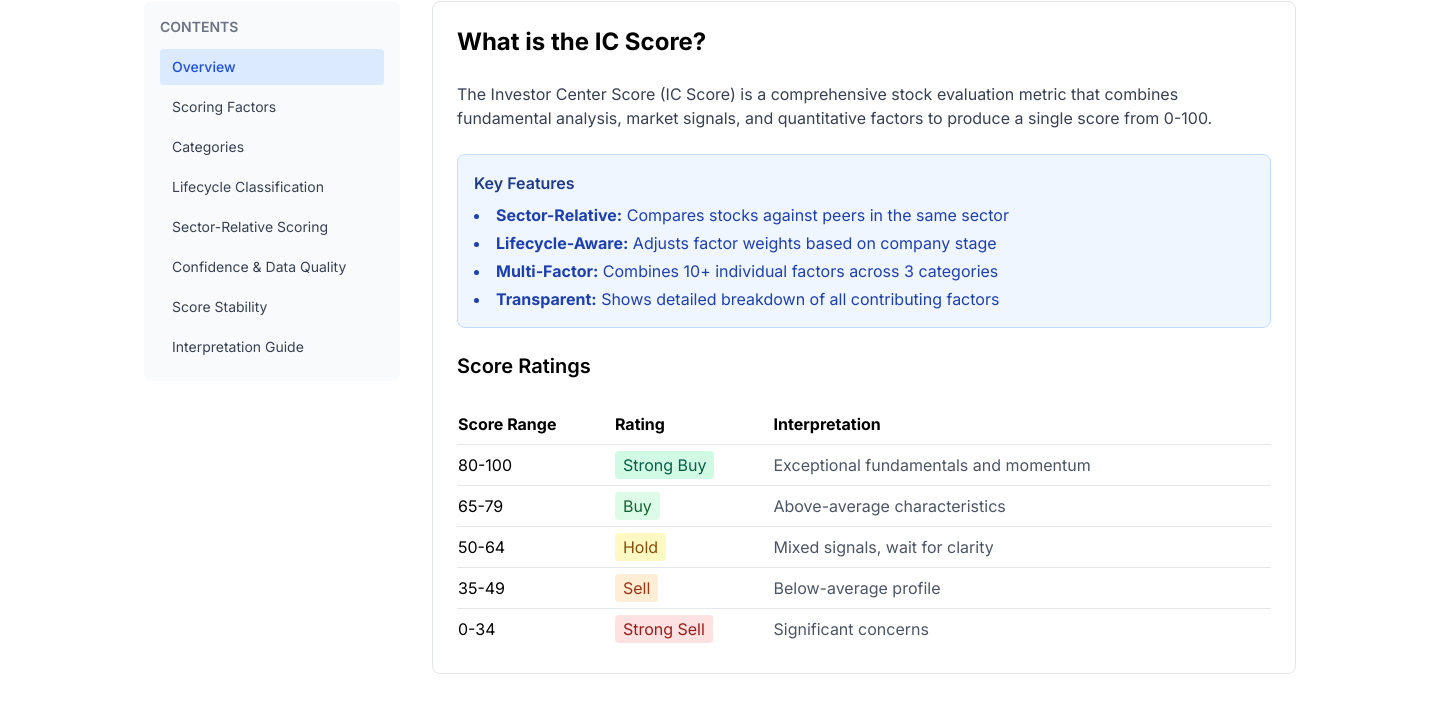
Scenario: ICScoreMethodology › displays all 10 scoring factors when Scoring Factors tab is active
Click the button "Scoring Factors" at (272,107), box [160, 89, 384, 125]
(page scrolled)
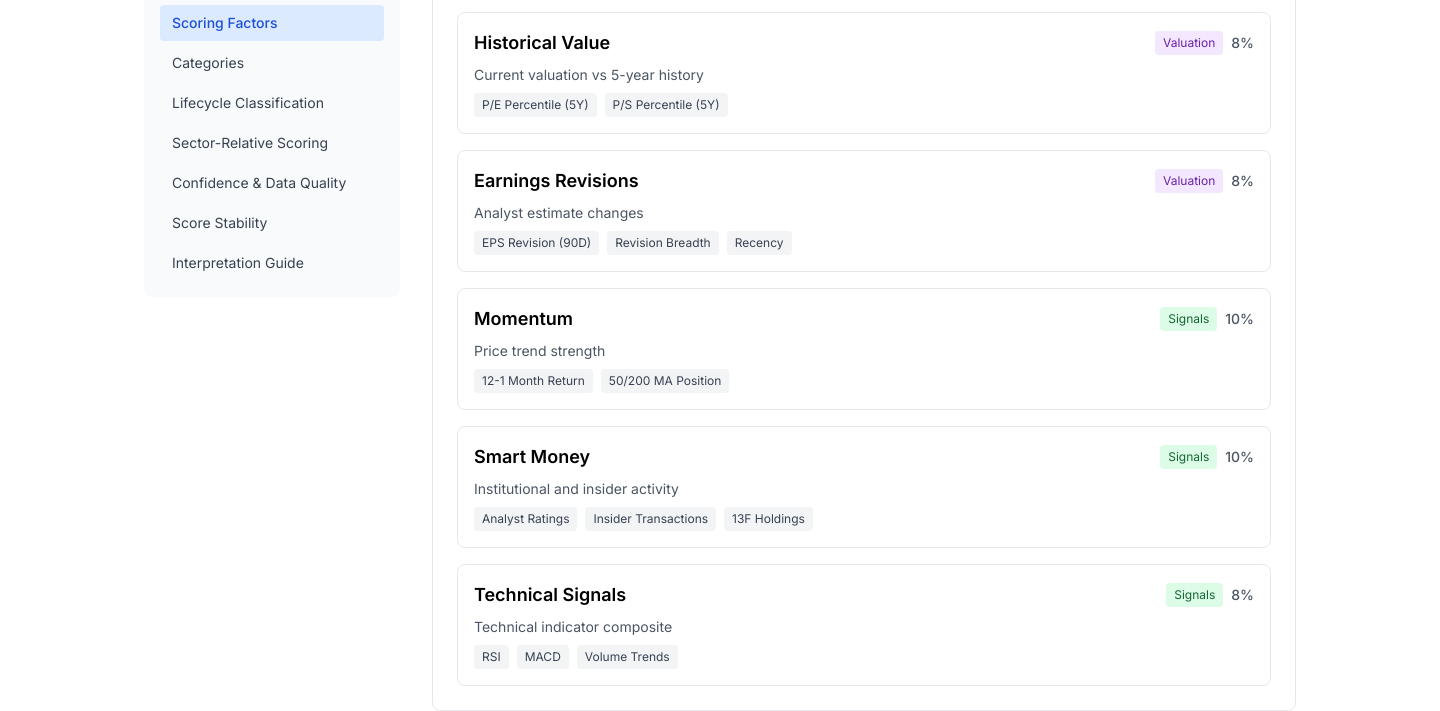
Check: the heading "Historical Value" is shown, box [474, 29, 610, 57]
Check: the heading "Earnings Revisions" is shown, box [474, 167, 638, 195]
Check: the heading "Smart Money" is shown, box [474, 443, 590, 471]
